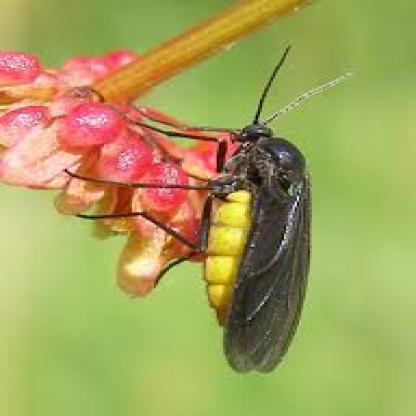sawfly: (67, 38, 359, 378)
